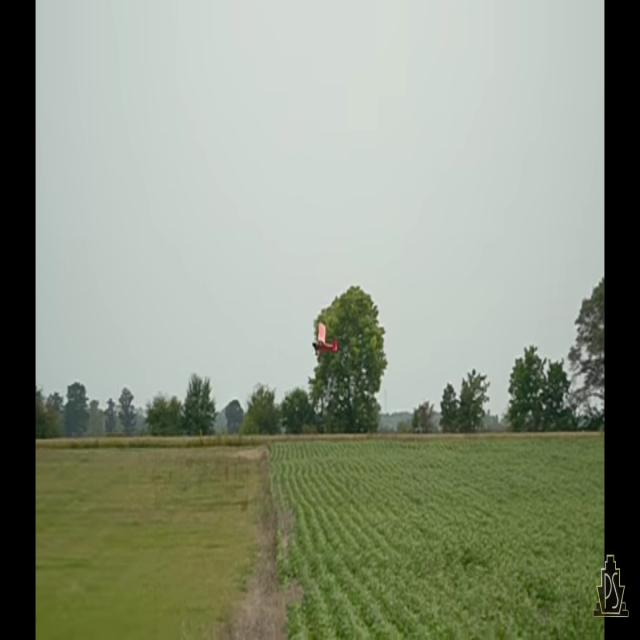iha: (312, 321, 339, 357)
